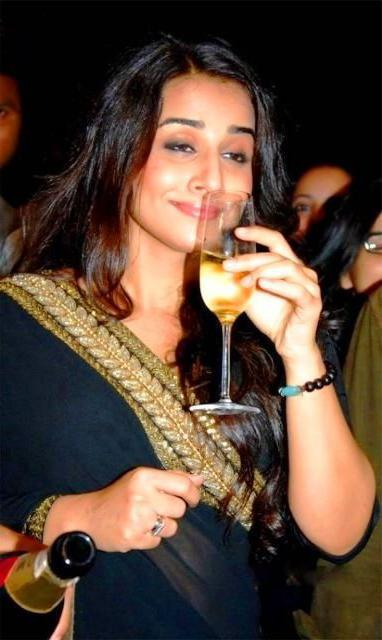Drunk: (151, 73, 260, 254)
